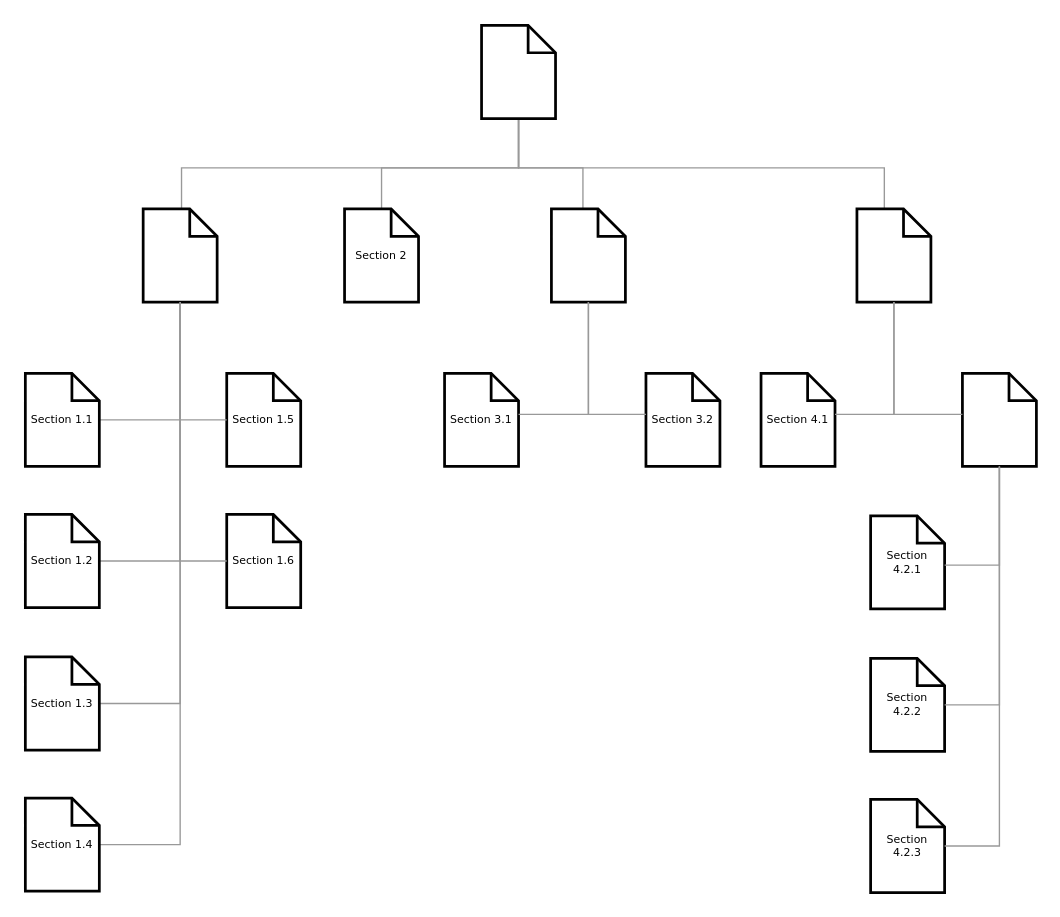
Image size: 1060x917. Some labels were removed from this diagram. Here are the shapes that lost their labels. From the top down, the box of each, then its label:
(480, 23, 556, 119): Home
(141, 207, 218, 303): Section 1
(549, 207, 626, 303): Section 3
(855, 207, 932, 303): Section 4
(960, 371, 1037, 467): Section 4.2
